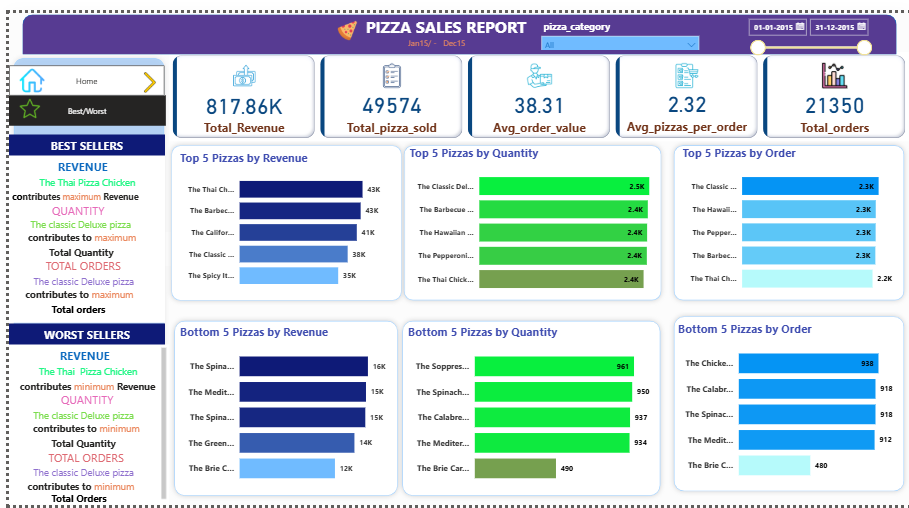

The dashboard page shown, as its layout file describes it:
{"tool":"powerbi","page":{"name":"Best/Worst","canvas":[1500,820],"ordinal":1},"visuals":[{"type":"cardVisual","fields":{"Data":["Pizza_sales.Total_Revenue","Pizza_sales.Total_pizza_sold","Pizza_sales.Avg_order_value","Pizza_sales.Avg_pizzas_per_order","Pizza_sales.Total_orders"]},"box":[266.7,65,1233.3,148.3],"z":0},{"type":"textbox","box":[121,366.1,279,56.5],"z":1000},{"type":"shape","box":[23.5,2,1456.9,66.7],"z":2000},{"type":"textbox","box":[580.6,0,296.8,64.5],"z":3000},{"type":"textbox","box":[659.7,35.5,103.2,32.3],"z":4000},{"type":"image","box":[532.3,8.1,62.9,43.5],"z":5000},{"type":"shape","box":[0,68.3,266.7,751.7],"z":16000},{"type":"textbox","box":[0,201.7,260,36.7],"z":17000},{"type":"textbox","box":[0,238.3,260,278.3],"z":18000},{"type":"textbox","box":[0,516.7,260,36.7],"z":19000},{"type":"textbox","box":[0,553.3,266.7,266.7],"z":20000},{"type":"slicer","fields":{"Values":["Pizza_sales.pizza_category"]},"box":[876.5,5.9,282.4,56.9],"z":21000},{"type":"slicer","fields":{"Values":["Pizza_sales.order_date"]},"box":[1186.5,0,226.9,88.5],"z":22000},{"type":"shape","box":[649,211.8,445.1,274.5],"z":22002},{"type":"shape","box":[261.5,211.5,400,275],"z":22003},{"type":"shape","box":[1100,211.8,400,274.5],"z":22004},{"type":"shape","box":[267.3,503.8,388.5,307.7],"z":22005},{"type":"shape","box":[648.1,503.8,446.2,307.7],"z":22006},{"type":"shape","box":[1100,498.1,400,307.7],"z":22007},{"type":"barChart","title":"Top 5 Pizzas by Revenue ","fields":{"Category":["Pizza_sales.pizza_name"],"Y":["Pizza_sales.Total_Revenue"]},"box":[278.8,226.9,365.4,244.2],"z":22008},{"type":"barChart","title":"Bottom 5 Pizzas by Revenue ","fields":{"Category":["Pizza_sales.pizza_name"],"Y":["Pizza_sales.Total_Revenue"]},"box":[278.8,517.3,365.4,280.8],"z":22009},{"type":"barChart","title":"Top 5 Pizzas by Quantity","fields":{"Category":["Pizza_sales.pizza_name"],"Y":["Pizza_sales.Total_pizza_sold"]},"box":[663.5,219.2,430.8,259.6],"z":22010},{"type":"barChart","title":"Bottom 5 Pizzas by Quantity","fields":{"Category":["Pizza_sales.pizza_name"],"Y":["Pizza_sales.Total_pizza_sold"]},"box":[659.6,517.3,413.5,280.8],"z":22011},{"type":"barChart","title":"Top 5 Pizzas by Order","fields":{"Category":["Pizza_sales.pizza_name"],"Y":["Pizza_sales.Total_orders"]},"box":[1117.6,219.6,362.7,258.8],"z":22012},{"type":"barChart","title":"Bottom 5 Pizzas by Order","fields":{"Category":["Pizza_sales.pizza_name"],"Y":["Pizza_sales.Total_orders"]},"box":[1109.6,511.5,371.2,280.8],"z":22013},{"type":"pageNavigator","box":[0,138.5,261.5,50],"z":22014},{"type":"pageNavigator","box":[0,88.5,259.6,50],"z":22015},{"type":"image","box":[213.5,78.8,44.2,71.8],"z":22016},{"type":"image","box":[13.5,130.8,44.2,57.7],"z":22017},{"type":"image","box":[13.5,82.7,51.9,59.6],"z":22018}]}

Visuals, with their boxes in screenshot pixels (x1, y1, x2, y2), scaled from the page's 1500x820 canvas onto the 909x508 screenshot:
cardVisual - Pizza_sales.Total_Revenue x Pizza_sales.Total_pizza_sold: 162,40,908,132
textbox: 73,227,242,262
shape: 14,1,897,43
textbox: 352,0,532,40
textbox: 400,22,462,42
image: 323,5,361,32
shape: 0,42,162,507
textbox: 0,125,158,148
textbox: 0,148,158,320
textbox: 0,320,158,343
textbox: 0,343,162,507
slicer - Pizza_sales.pizza_category: 531,4,702,39
slicer - Pizza_sales.order_date: 719,0,857,55
shape: 393,131,663,301
shape: 158,131,401,301
shape: 667,131,908,301
shape: 162,312,397,503
shape: 393,312,663,503
shape: 667,309,908,499
"Top 5 Pizzas by Revenue " barChart: 169,141,390,292
"Bottom 5 Pizzas by Revenue " barChart: 169,320,390,494
"Top 5 Pizzas by Quantity" barChart: 402,136,663,297
"Bottom 5 Pizzas by Quantity" barChart: 400,320,650,494
"Top 5 Pizzas by Order" barChart: 677,136,897,296
"Bottom 5 Pizzas by Order" barChart: 672,317,897,491
pageNavigator: 0,86,158,117
pageNavigator: 0,55,157,86
image: 129,49,156,93
image: 8,81,35,117
image: 8,51,40,88
